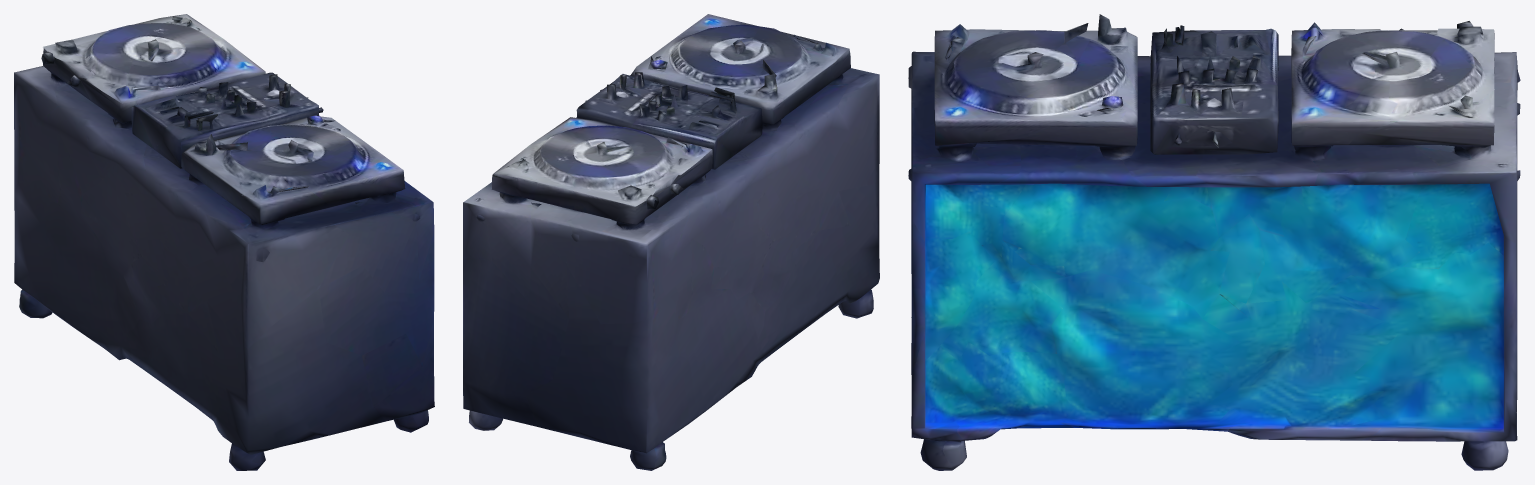
File: dj-booth.glb
3 views of the same model, side by side, from view 1: azimuth 30°, elevation 25°; view 2: azimuth 150°, elevation 25°; view 3: azimuth 270°, elevation 25° (orthographic). The views are drawn at different scales.
Visible parts, largest first — view 1: tripo_node_37a01986-b146-4d48-86d8-0fad8780f51d; view 2: tripo_node_37a01986-b146-4d48-86d8-0fad8780f51d; view 3: tripo_node_37a01986-b146-4d48-86d8-0fad8780f51d.
Boxes of the visible parts, <box> form: tripo_node_37a01986-b146-4d48-86d8-0fad8780f51d: <box>14,14,434,470</box>; tripo_node_37a01986-b146-4d48-86d8-0fad8780f51d: <box>463,14,879,470</box>; tripo_node_37a01986-b146-4d48-86d8-0fad8780f51d: <box>908,14,1520,470</box>.
Size of the model in its own units: 0.4767 by 0.6496 by 1.
Materials: 1 (1 with a texture image).
